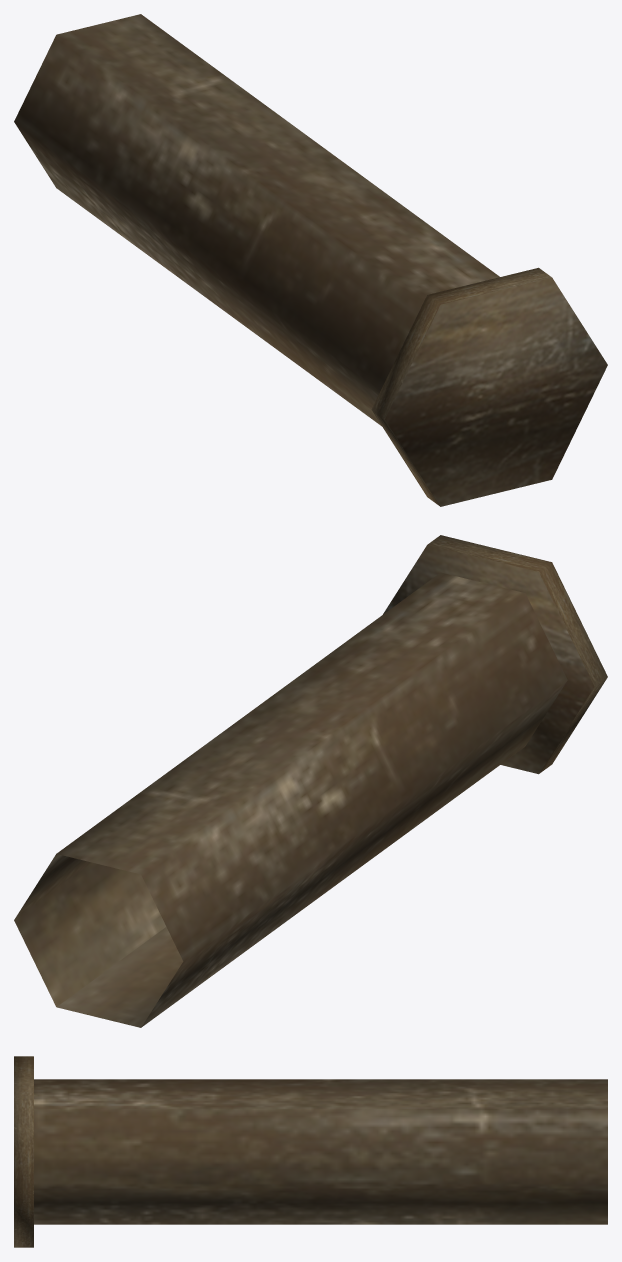
The model's file is large_brown_1.fbx.
3 renders of one model, top to bottom at view 1: azimuth 30°, elevation 25°; view 2: azimuth 150°, elevation 25°; view 3: azimuth 270°, elevation 25°, orthographic. The views are drawn at different scales.
Parts seen in each view (by area): view 1: polySurface667; view 2: polySurface667; view 3: polySurface667.
Part boxes in pixels (<box>): polySurface667: <box>14,14,607,506</box>; polySurface667: <box>14,535,607,1027</box>; polySurface667: <box>14,1056,607,1247</box>.
Size of the model in its own units: 0.3294 by 0.2853 by 1.02.
